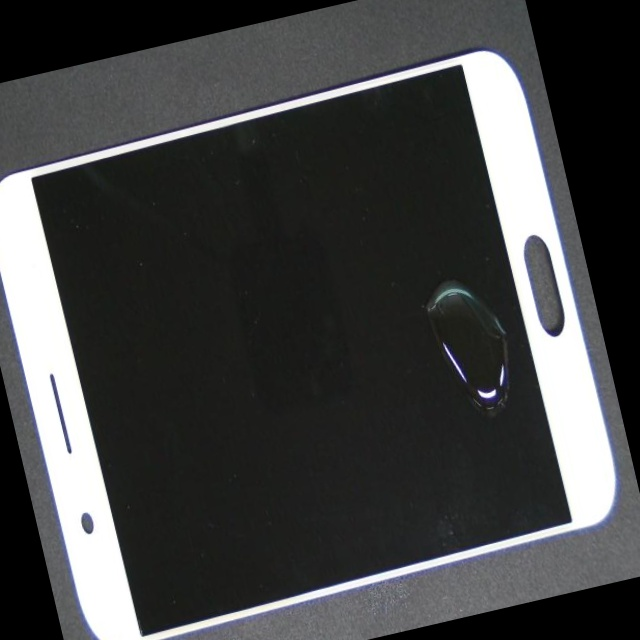oil: (238, 160, 634, 545)
